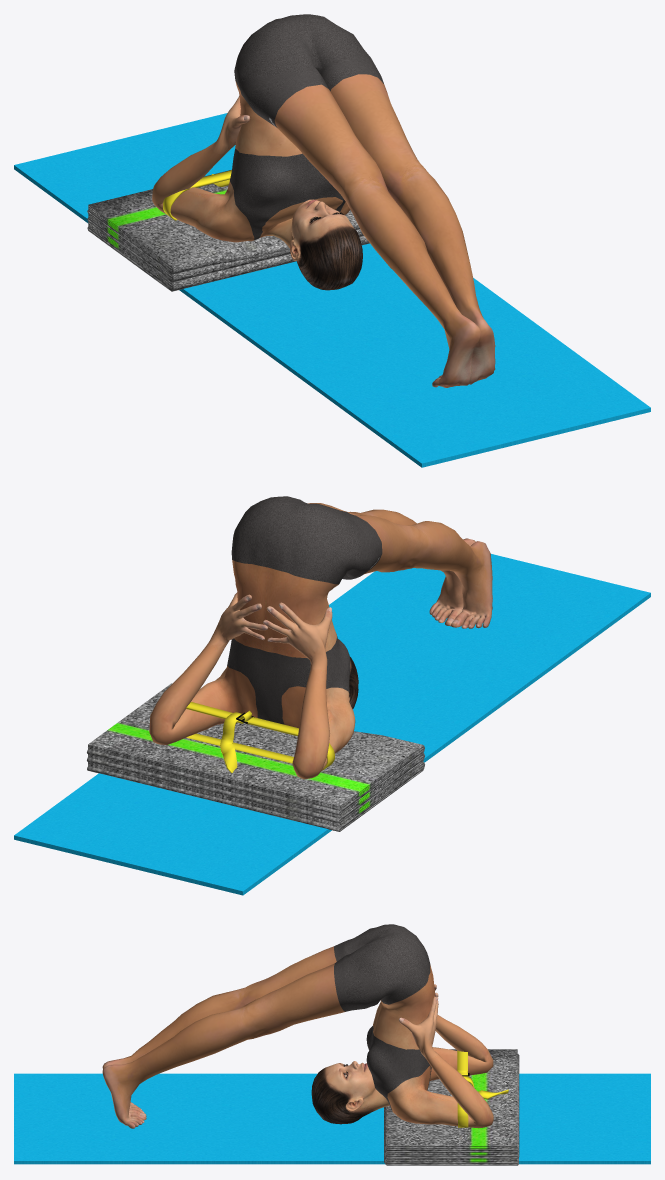
The model's file is halasana.glb.
3 renders of one model, top to bottom at view 1: azimuth 30°, elevation 25°; view 2: azimuth 150°, elevation 25°; view 3: azimuth 270°, elevation 25°, orthographic. The views are drawn at different scales.
Visible parts, largest first — view 1: Mat-one-piece_jpg-material, Lily_Texture2017-07-24Yellower_jpg-material, StripeGreenOnBlanketLowRes_jpg-material (×3), BeltYellow_jpg-material; view 2: Mat-one-piece_jpg-material, Lily_Texture2017-07-24Yellower_jpg-material, StripeGreenOnBlanketLowRes_jpg-material (×3), BeltYellow_jpg-material; view 3: Mat-one-piece_jpg-material, Lily_Texture2017-07-24Yellower_jpg-material, StripeGreenOnBlanketLowRes_jpg-material (×3), BeltYellow_jpg-material.
Part boxes in pixels (bbox=[...]): Mat-one-piece_jpg-material: bbox=[14, 113, 650, 467]; Lily_Texture2017-07-24Yellower_jpg-material: bbox=[152, 14, 495, 387]; StripeGreenOnBlanketLowRes_jpg-material (×3): bbox=[87, 170, 369, 291]; BeltYellow_jpg-material: bbox=[163, 170, 231, 220]; Mat-one-piece_jpg-material: bbox=[14, 554, 650, 895]; Lily_Texture2017-07-24Yellower_jpg-material: bbox=[149, 496, 492, 779]; StripeGreenOnBlanketLowRes_jpg-material (×3): bbox=[87, 683, 424, 831]; BeltYellow_jpg-material: bbox=[186, 702, 334, 773]; Mat-one-piece_jpg-material: bbox=[14, 1073, 650, 1164]; Lily_Texture2017-07-24Yellower_jpg-material: bbox=[102, 924, 493, 1128]; StripeGreenOnBlanketLowRes_jpg-material (×3): bbox=[384, 1049, 519, 1165]; BeltYellow_jpg-material: bbox=[457, 1050, 508, 1127].
Bounding box in the file's own units: 2.2 × 2.02 × 6.17.
Materials: 6 (5 with a texture image).
